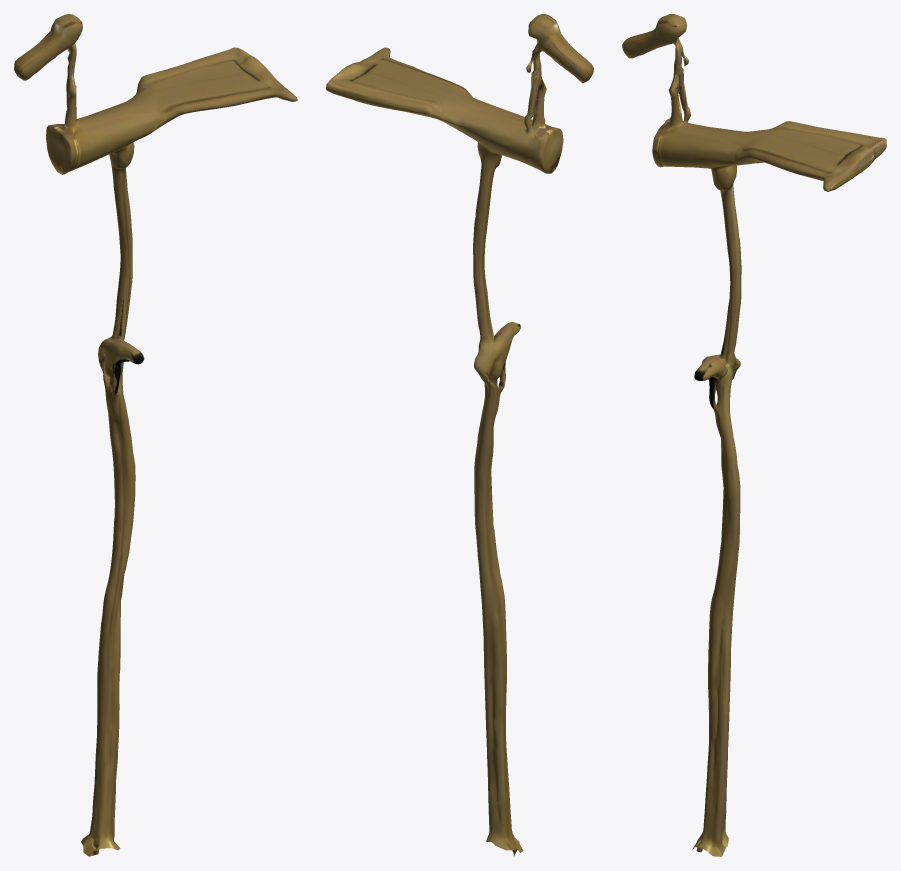
Rendered from Sotdae.glb.
The picture shows the model from 3 angles, left to right: view 1: azimuth 30°, elevation 25°; view 2: azimuth 150°, elevation 25°; view 3: azimuth 330°, elevation 25°; orthographic projection.
Visible parts, largest first — view 1: Mesh_0; view 2: Mesh_0; view 3: Mesh_0.
Boxes of the visible parts, x1,y1,x2,y2 form: Mesh_0: (14,14,297,856); Mesh_0: (326,14,593,856); Mesh_0: (622,14,886,856).
Size of the model in its own units: 0.5778 by 1.9 by 0.2499.
Materials: 1 (1 with a texture image).
